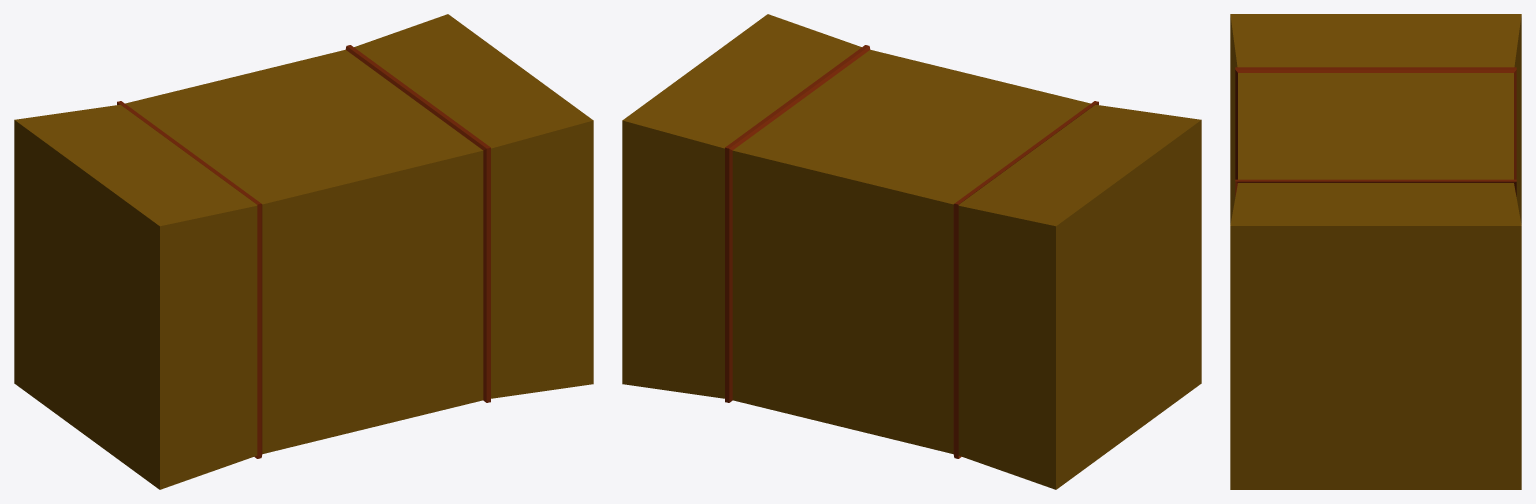
File: haystack.fbx
3 renders of one model, left to right at view 1: azimuth 30°, elevation 25°; view 2: azimuth 150°, elevation 25°; view 3: azimuth 270°, elevation 25°, orthographic.
Parts seen in each view (by area): view 1: pCube1; view 2: pCube1; view 3: pCube1.
Part boxes in pixels (x1,y1,x2,y2): pCube1: (14,14,593,489); pCube1: (622,14,1201,489); pCube1: (1230,14,1521,489).
Size of the model in its own units: 6.74 by 3.92 by 3.92.
